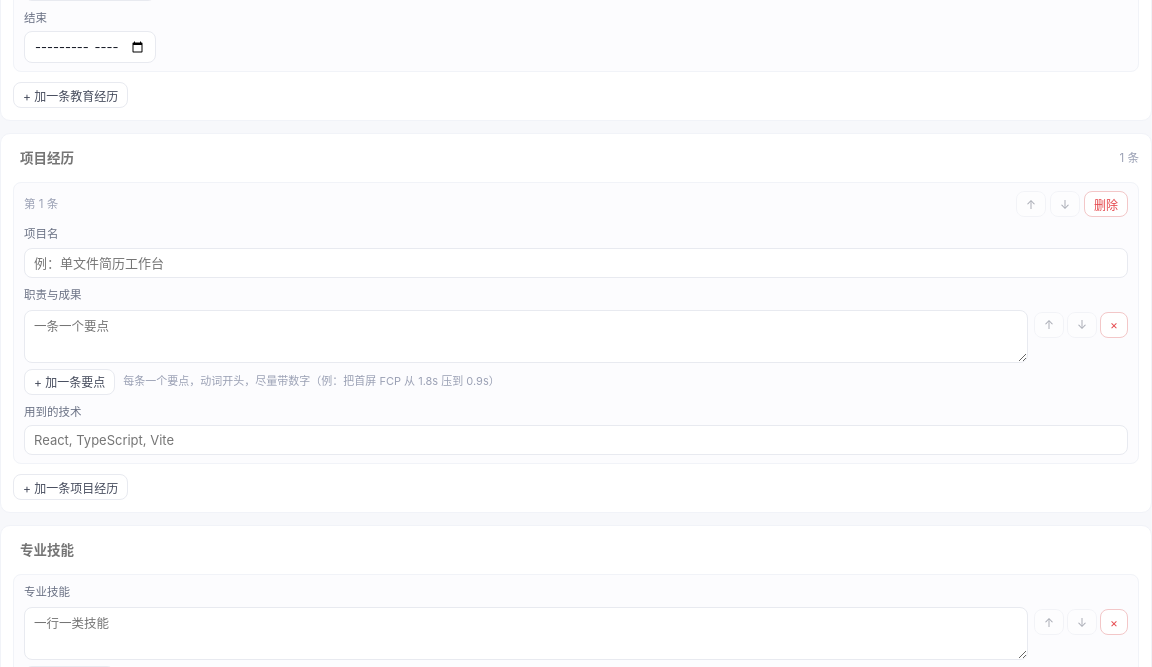
Test: SchemaForm（jsdom） › 每条要点有可访问名字（aria-label 带序号），↑↓ 在首尾禁用
The width and height of the screenshot is (1152, 667).
(page scrolled)
Click the button "+ 加一条要点" below "职责与成果" at (70, 382), box [24,369,115,395]
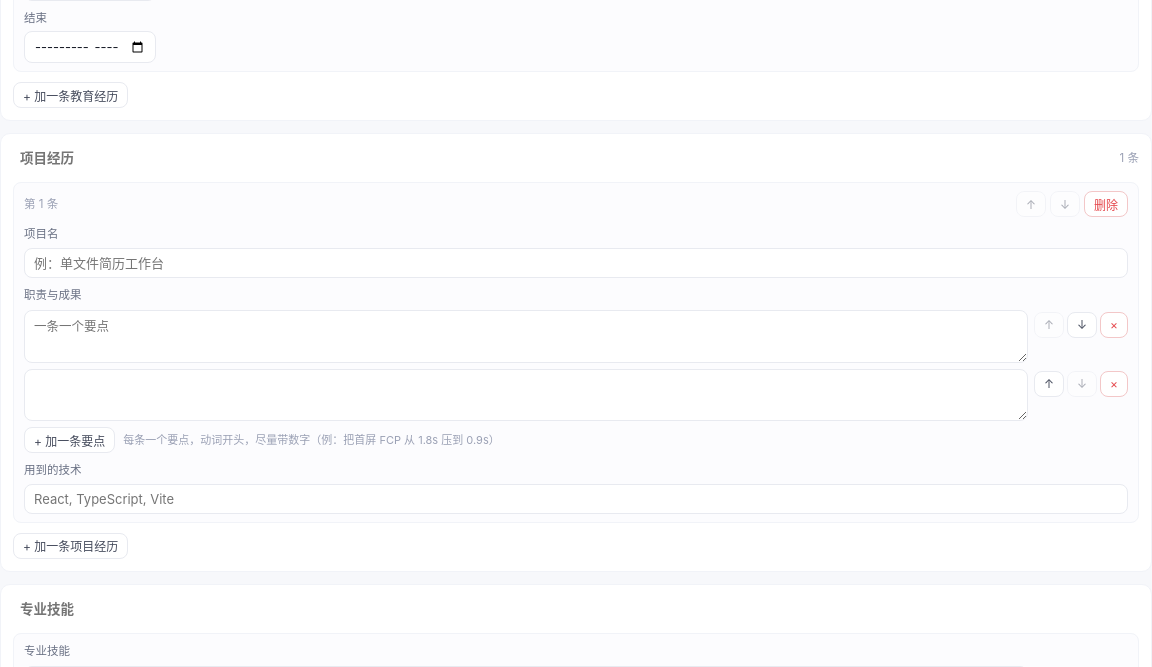
Check: the button named "上移第 1 条要点" is disabled, box [1034,312,1064,338]
Check: the button named "下移第 2 条要点" is disabled, box [1067,371,1097,397]
